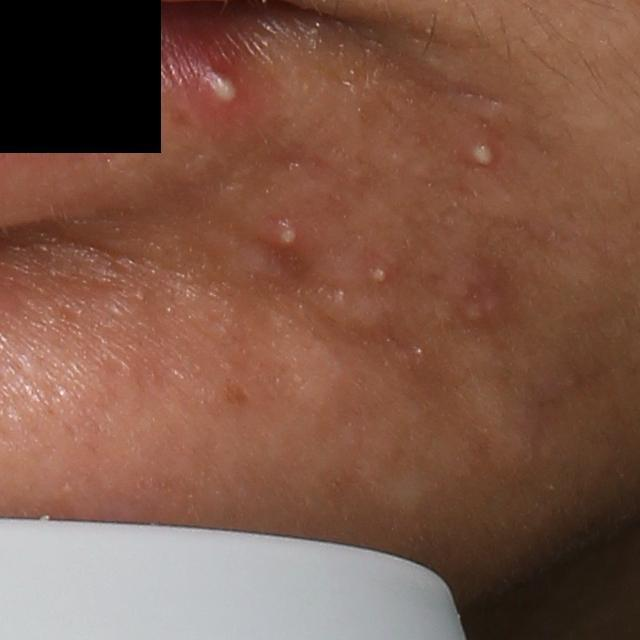hypertrophic_scar: (265, 310, 345, 413)
pustule: (188, 63, 250, 117), (261, 216, 311, 257), (463, 134, 508, 175), (364, 258, 398, 293)
